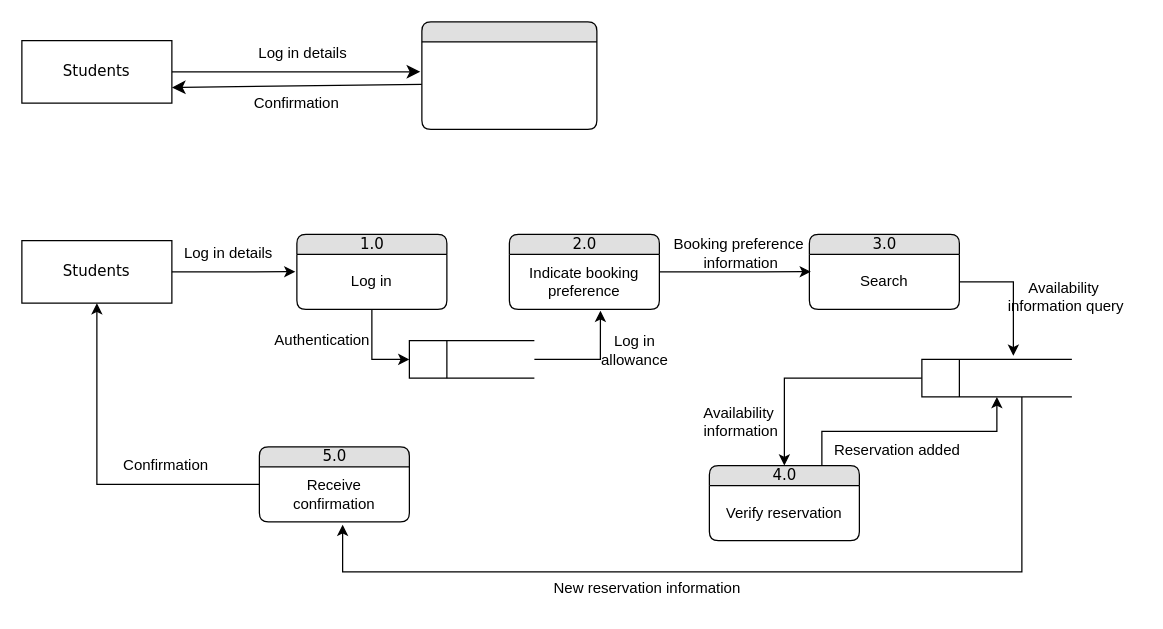
Image size: 1163x629. Some labels were removed from this diagram. The shapes that lost their labels are listed below. From the top down, each one's centre as x and y in pixels, then its label:
At point 509,75: "Personal booking system".
At point 471,358: "Student database".
At point 996,377: "Room timetable database".
